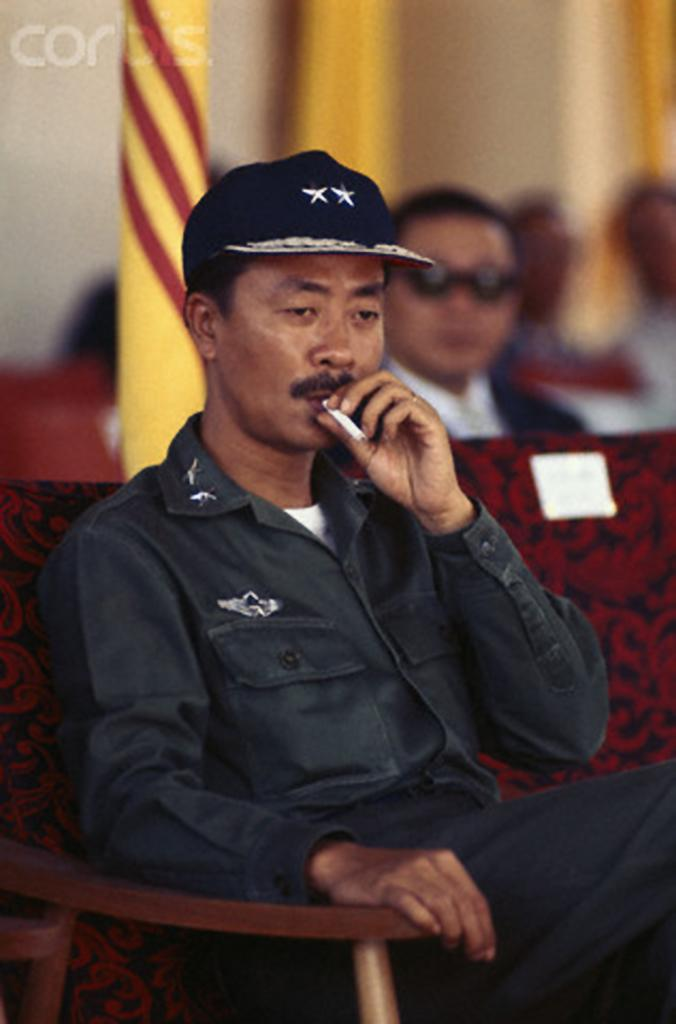Hat: (177, 150, 428, 293)
